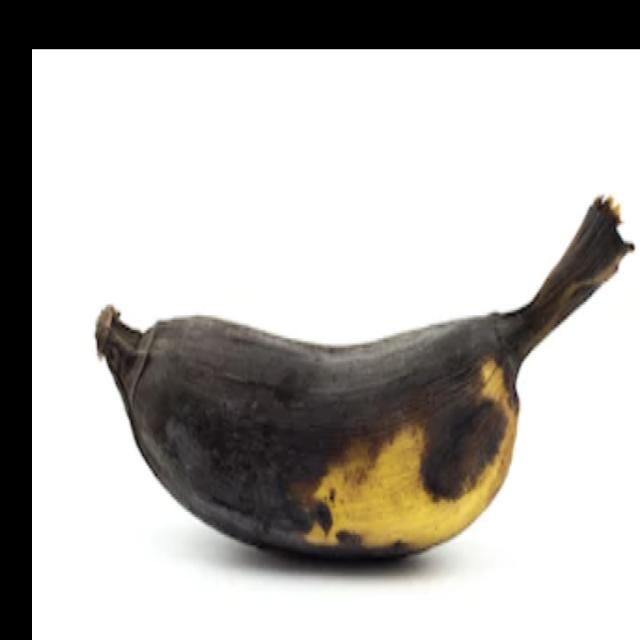banana: (115, 0, 636, 562)
